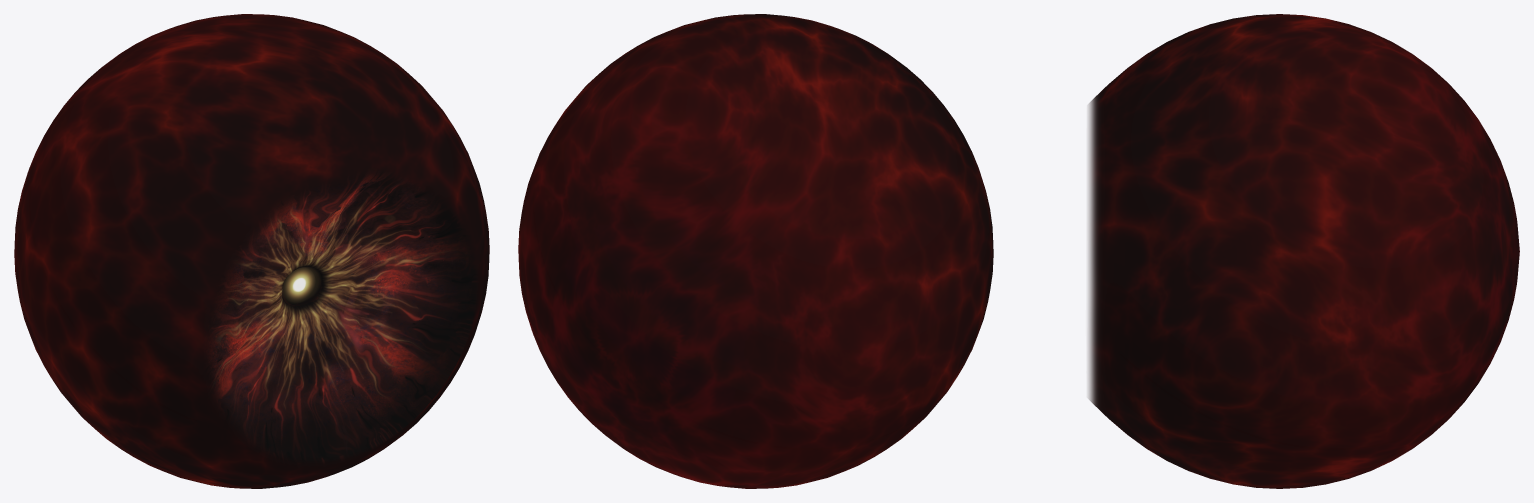
Rendered from red_vile_hatred_eyeball_-_blender_file.glb.
The picture shows the model from 3 angles, left to right: view 1: azimuth 30°, elevation 25°; view 2: azimuth 150°, elevation 25°; view 3: azimuth 270°, elevation 25°; orthographic projection.
Parts seen in each view (by area): view 1: eye-red-vile-hatred_0, irys-red-vile-hatred_1; view 2: eye-red-vile-hatred_0; view 3: eye-red-vile-hatred_0.
Part boxes in pixels (<box>): eye-red-vile-hatred_0: <box>14,14,489,488</box>; irys-red-vile-hatred_1: <box>203,170,478,464</box>; eye-red-vile-hatred_0: <box>518,14,993,488</box>; eye-red-vile-hatred_0: <box>1088,14,1519,488</box>.
Size of the model in its own units: 1.97 by 1.97 by 2.07.
2 materials, 2 textured.
